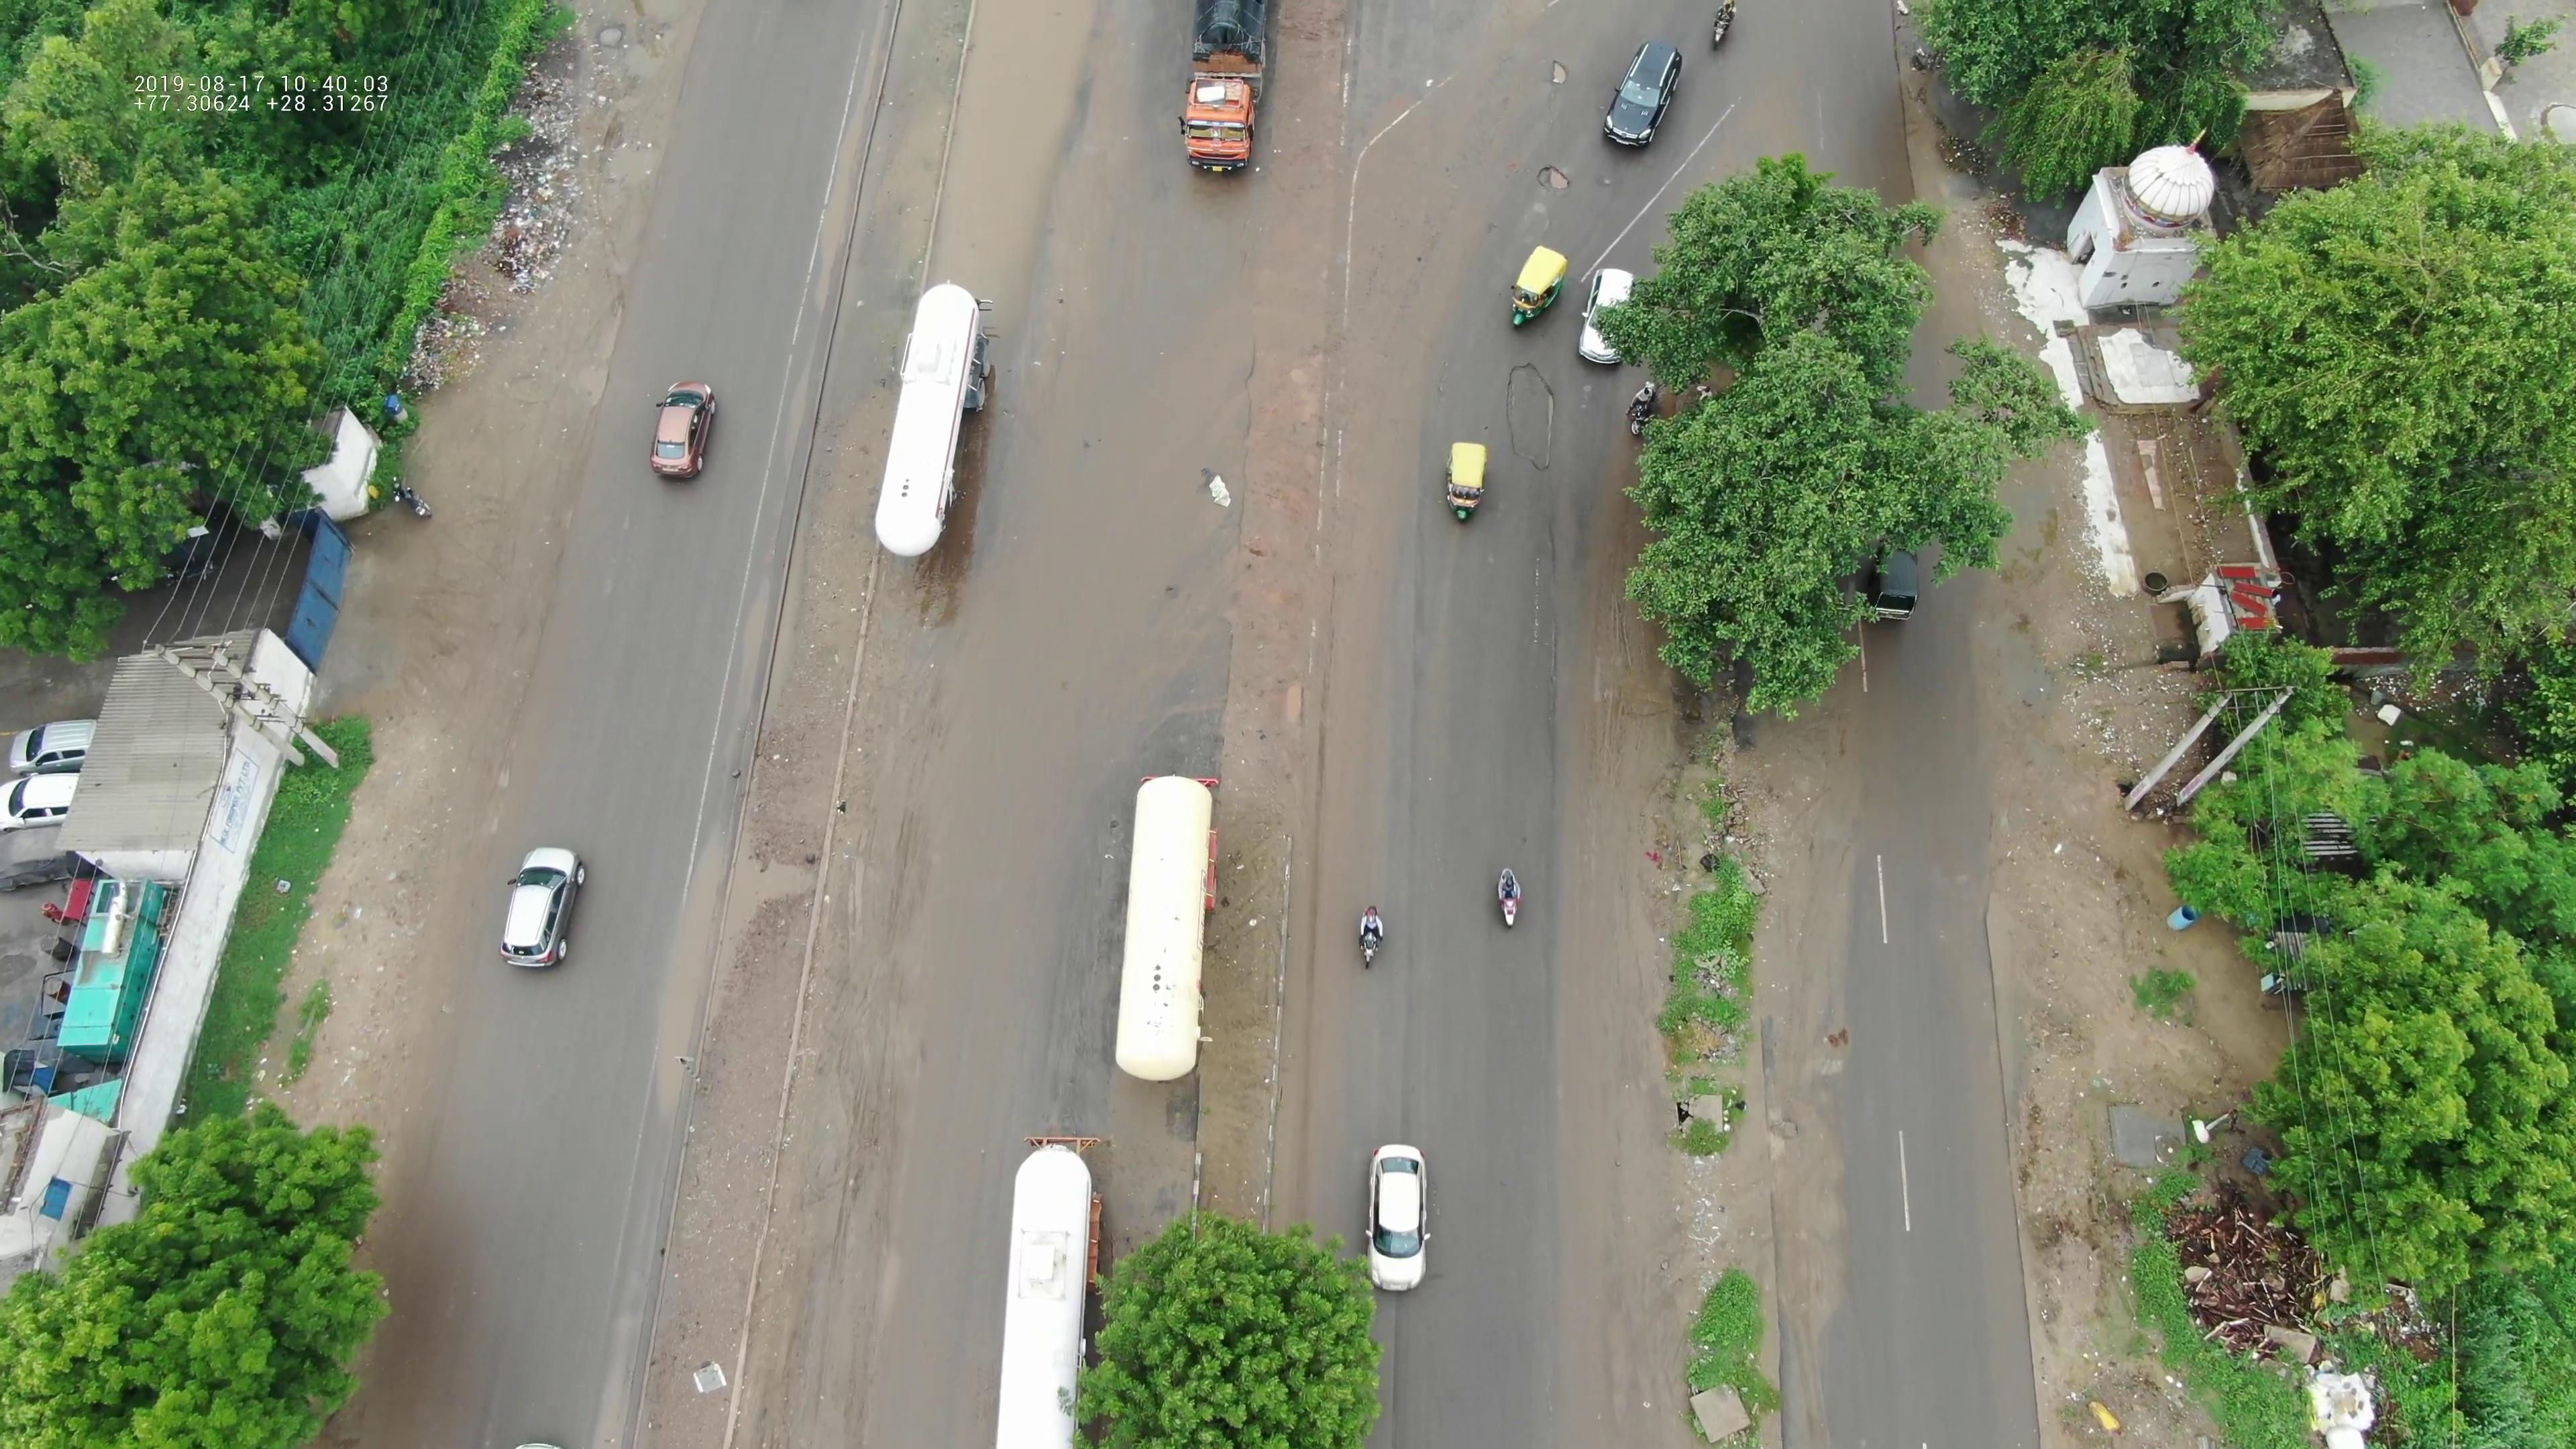Muddy_road: (828, 580, 977, 844), (748, 1152, 879, 1447), (1555, 683, 1670, 1003), (1323, 156, 1417, 529), (803, 858, 924, 1146), (1591, 1030, 1672, 1362)
Potholes: (1488, 334, 1583, 508), (570, 16, 669, 81), (1506, 50, 1598, 111), (1523, 145, 1591, 216)
Waterlogging: (932, 14, 1113, 280)
